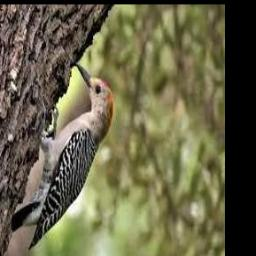Woodpecker: (11, 62, 113, 250)
